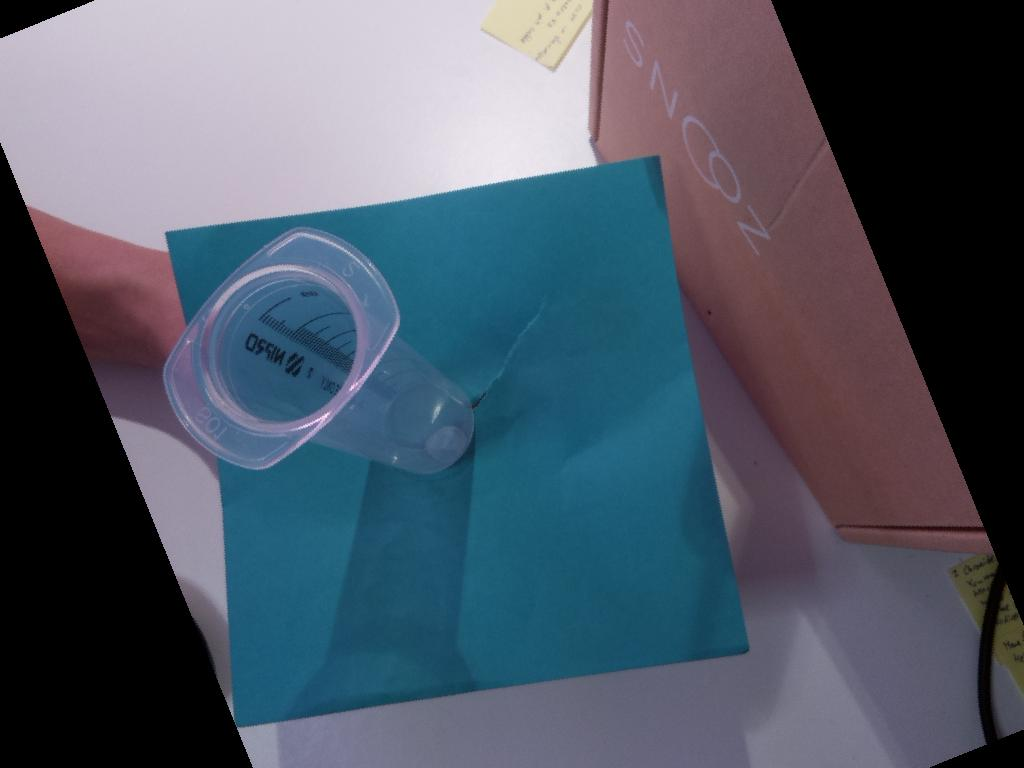clean: (161, 225, 403, 473)
